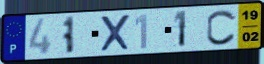1: (61, 14, 77, 56), (173, 9, 188, 50), (134, 13, 149, 50)
4: (27, 17, 55, 58)
C: (205, 8, 238, 47)
X: (99, 13, 132, 53)
